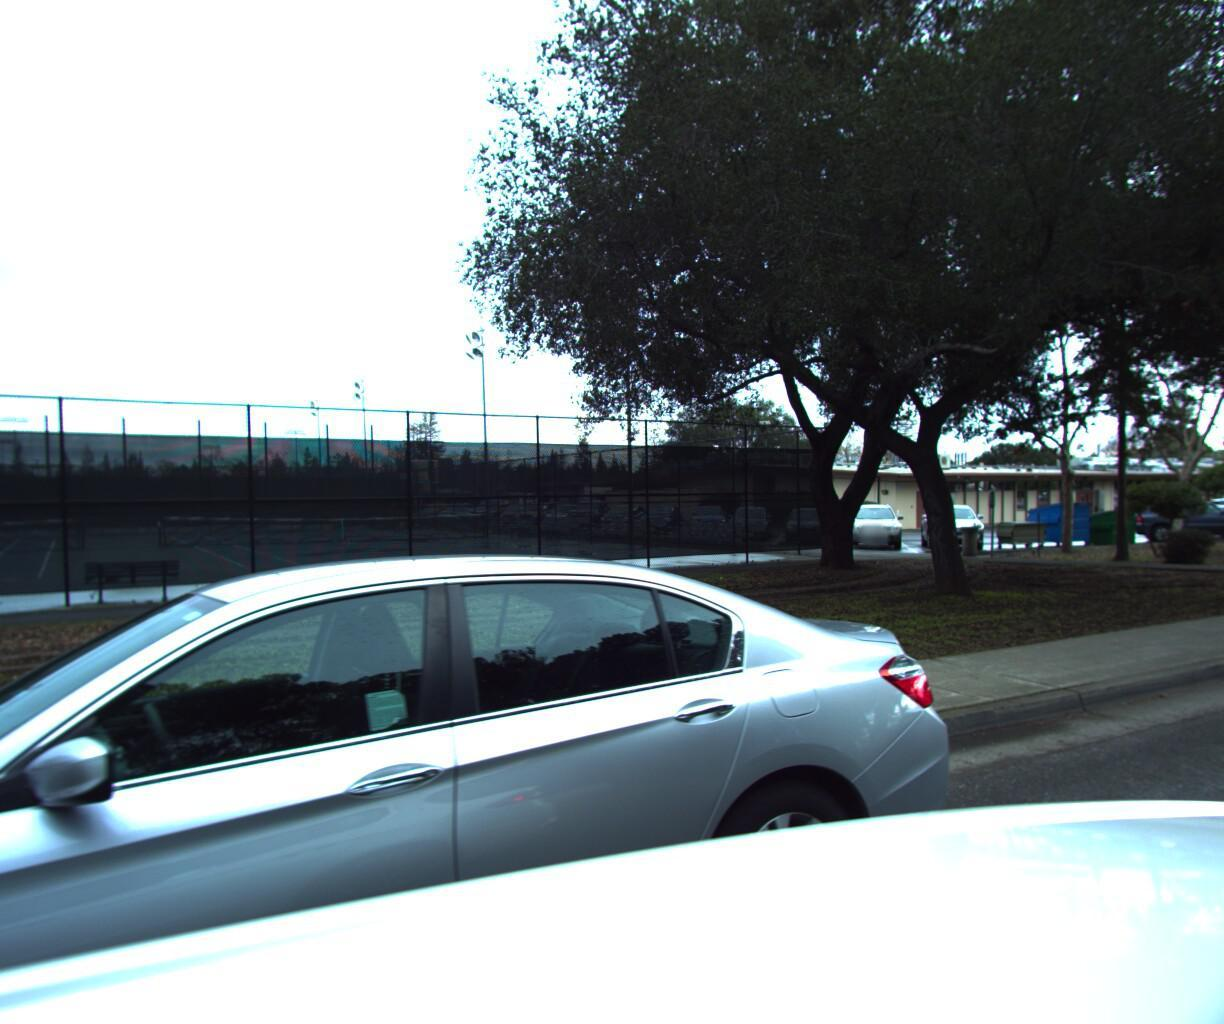car: (0, 521, 1032, 1024)
